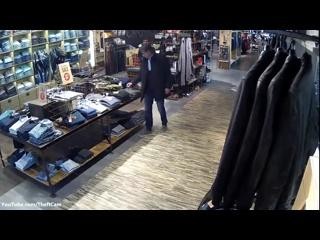Normal: (128, 45, 172, 132)
